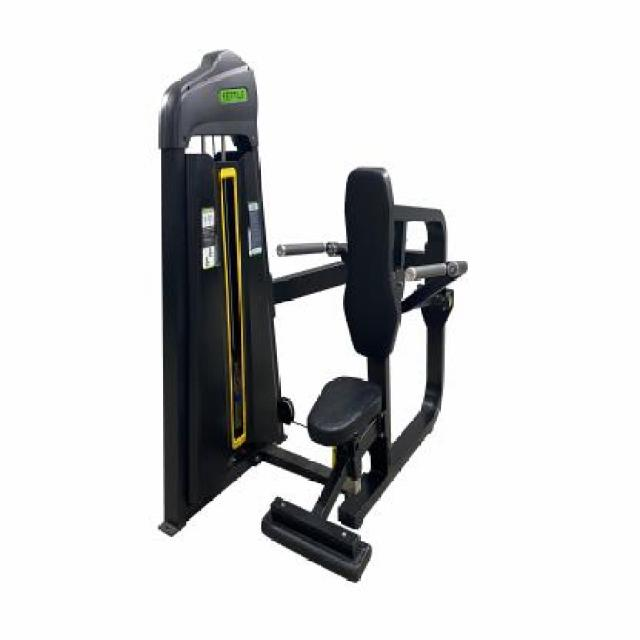seated dip machine: (158, 46, 470, 585)
